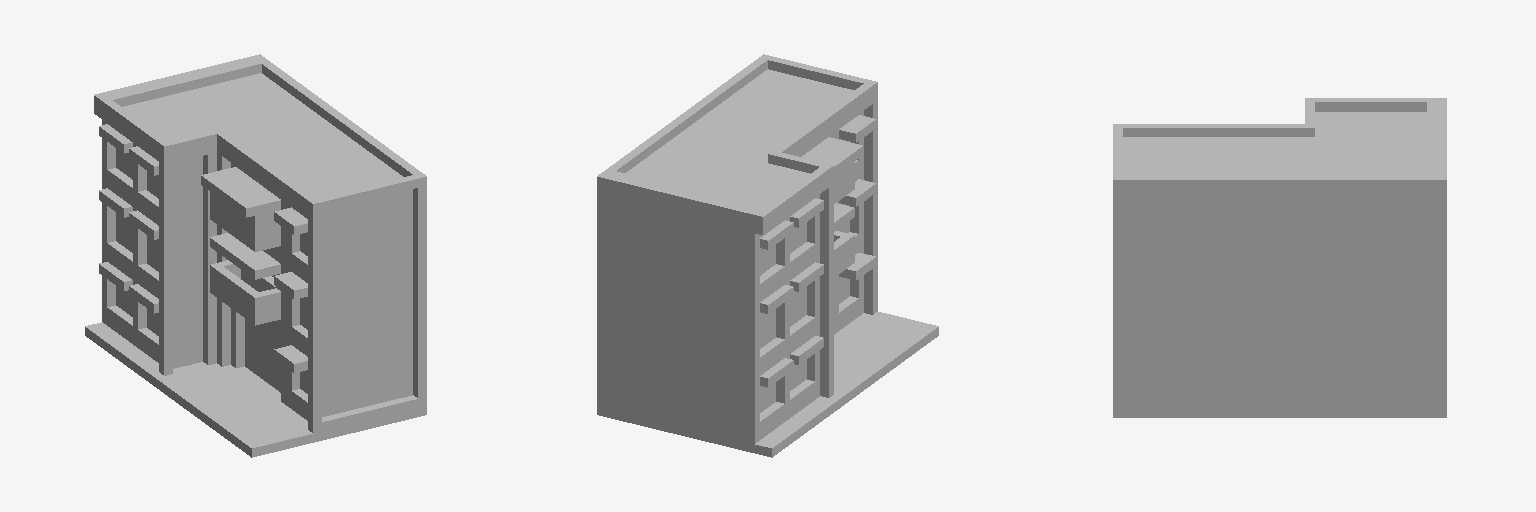
The model's file is house5.obj.
The picture shows the model from 3 angles: view 1: azimuth 30°, elevation 25°; view 2: azimuth 150°, elevation 25°; view 3: azimuth 270°, elevation 25°; orthographic projection.
Parts seen in each view (by area): view 1: object 1; view 2: object 1; view 3: object 1.
Boxes of the visible parts, box(x1,y1,x2,y2) form: object 1: box(85, 54, 426, 457); object 1: box(597, 54, 938, 457); object 1: box(1113, 98, 1446, 417).
Bounding box in the file's own units: 2 × 2.6 × 3.3.